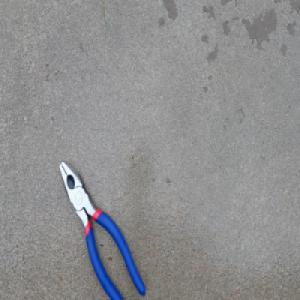Pliers: (59, 158, 146, 300)
